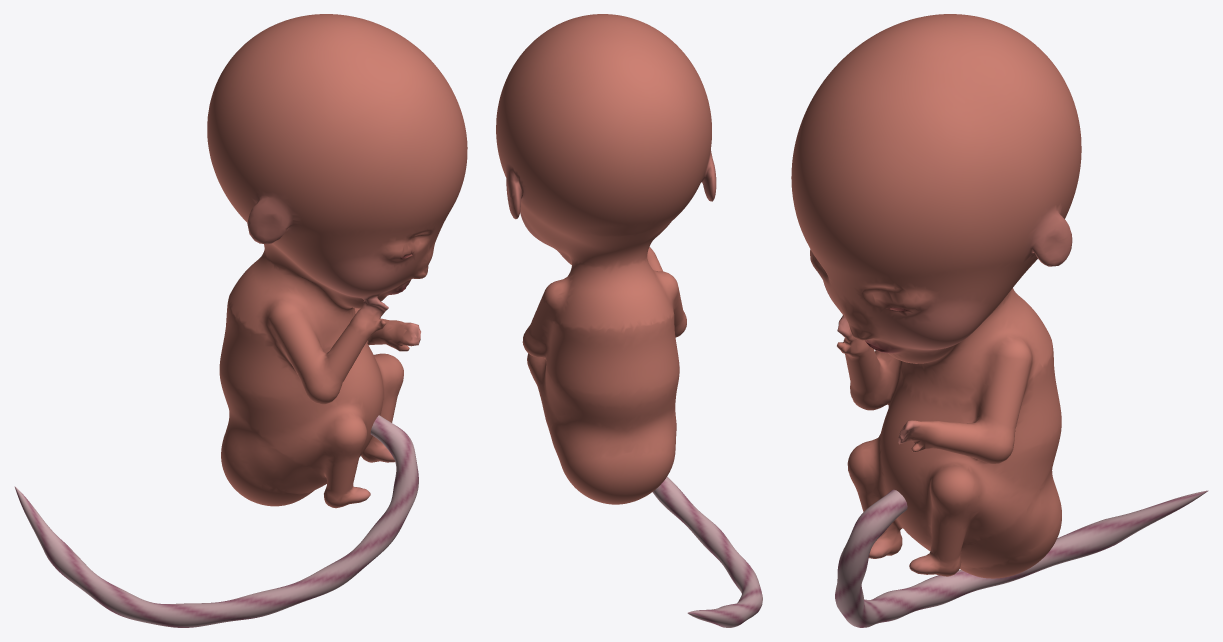
File: week_12.glb
The picture shows the model from 3 angles, left to right: view 1: azimuth 30°, elevation 25°; view 2: azimuth 150°, elevation 25°; view 3: azimuth 270°, elevation 25°; orthographic projection. The views are drawn at different scales.
Parts seen in each view (by area): view 1: skin, cord; view 2: skin, cord; view 3: skin, cord.
Boxes of the visible parts, <box> form: skin: <box>207,14,467,508</box>; cord: <box>14,415,418,627</box>; skin: <box>496,14,716,504</box>; cord: <box>652,476,762,627</box>; skin: <box>791,14,1081,578</box>; cord: <box>835,489,1208,627</box>.
Bounding box in the file's own units: 1.8 × 3.03 × 1.73.
